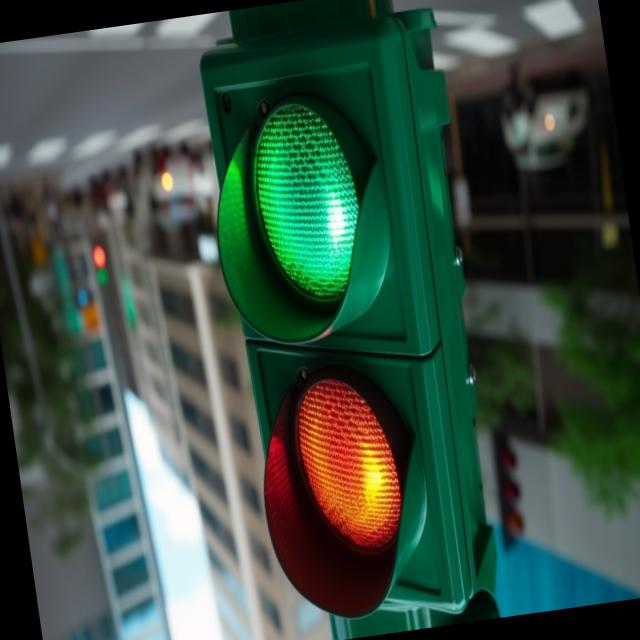green-lights: (242, 87, 372, 309)
red-lights: (287, 369, 410, 565)
